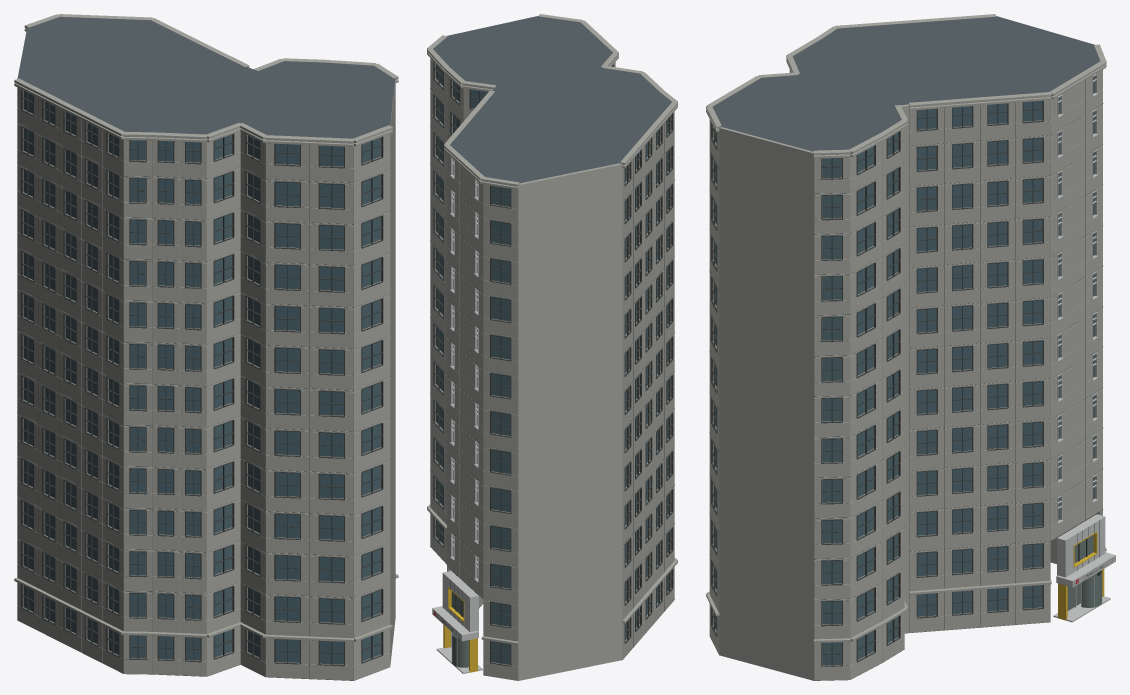
Rendered from pel-exterior-306a544c045e.glb.
3 renders of one model, left to right at view 1: azimuth 30°, elevation 25°; view 2: azimuth 150°, elevation 25°; view 3: azimuth 270°, elevation 25°, orthographic. The views are drawn at different scales.
Visible parts, largest first — view 1: PEL.001; view 2: PEL.001; view 3: PEL.001.
Part boxes in pixels (<box>): PEL.001: <box>14,14,398,680</box>; PEL.001: <box>427,14,677,680</box>; PEL.001: <box>706,14,1115,680</box>.
Size of the model in its own units: 24.89 by 44.15 by 30.97.
